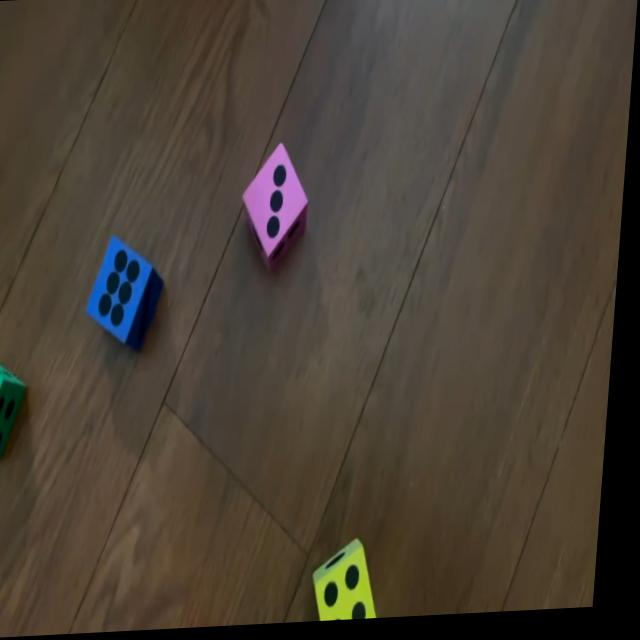blue_block: (88, 232, 170, 346)
